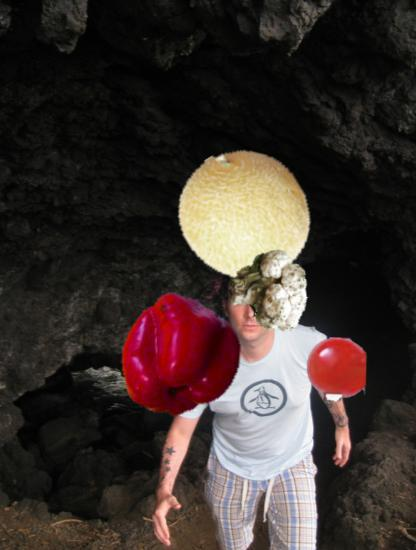Cantaloupe: (177, 148, 312, 283)
Cauliflower: (226, 250, 312, 336)
Pepper: (118, 292, 245, 419)
Redcurrant: (304, 337, 369, 402)
